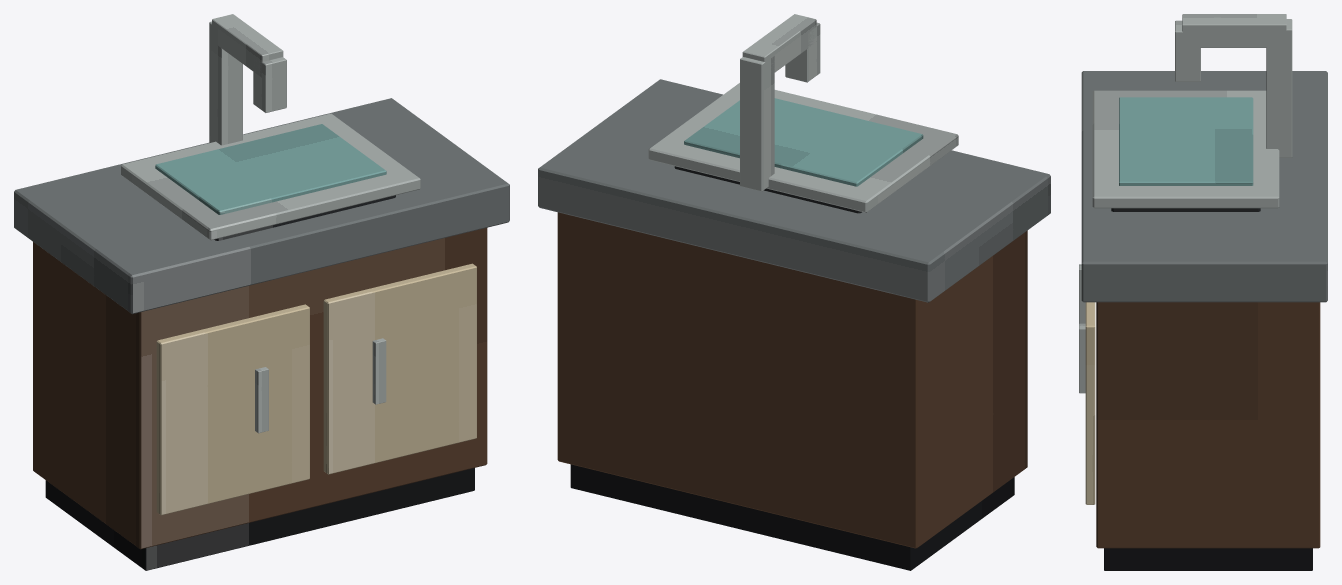
File: normal_kitchen_sink.glb
3 renders of one model, left to right at view 1: azimuth 30°, elevation 25°; view 2: azimuth 150°, elevation 25°; view 3: azimuth 270°, elevation 25°, orthographic. The views are drawn at different scales.
Parts seen in each view (by area): view 1: SinkCabinet, SinkWorktop, CabinetDoor_2, CabinetDoor_1, BasinOpening, SinkRim, SinkPlinth, FaucetPost, FaucetSpout, FaucetDrop, CabinetHandle_2, CabinetHandle_1; view 2: SinkCabinet, SinkWorktop, SinkPlinth, SinkRim, BasinOpening, FaucetPost, FaucetSpout, FaucetDrop; view 3: SinkCabinet, SinkWorktop, BasinOpening, SinkRim, SinkPlinth, FaucetPost, FaucetSpout, CabinetDoor_2, FaucetDrop, SinkBasin, CabinetHandle_2.
Part boxes in pixels (x1,y1,x2,y2): SinkCabinet: (33, 228, 487, 549); SinkWorktop: (14, 98, 509, 314); CabinetDoor_2: (323, 263, 476, 474); CabinetDoor_1: (156, 304, 309, 515); BasinOpening: (155, 124, 386, 214); SinkRim: (121, 113, 420, 240); SinkPlinth: (45, 468, 474, 570); FaucetPost: (209, 21, 242, 145); FaucetSpout: (212, 14, 283, 77); FaucetDrop: (253, 57, 286, 112); CabinetHandle_2: (372, 338, 386, 404); CabinetHandle_1: (255, 367, 268, 433); SinkCabinet: (557, 212, 1027, 548); SinkWorktop: (538, 79, 1050, 302); SinkPlinth: (570, 464, 1014, 570); SinkRim: (648, 83, 958, 212); BasinOpening: (684, 98, 923, 186); FaucetPost: (740, 56, 774, 191); FaucetSpout: (742, 14, 816, 78); FaucetDrop: (785, 22, 820, 82); SinkCabinet: (1096, 302, 1320, 548); SinkWorktop: (1081, 71, 1327, 302); BasinOpening: (1119, 97, 1253, 185); SinkRim: (1092, 90, 1279, 208); SinkPlinth: (1104, 548, 1312, 570); FaucetPost: (1266, 19, 1292, 157); FaucetSpout: (1182, 14, 1286, 47); CabinetDoor_2: (1085, 302, 1095, 504); FaucetDrop: (1175, 20, 1200, 81); SinkBasin: (1111, 208, 1260, 211); CabinetHandle_2: (1079, 323, 1085, 393).
Bounding box in the file's own units: 1.22 × 1.39 × 0.6665.
Materials: 1 (1 with a texture image).
